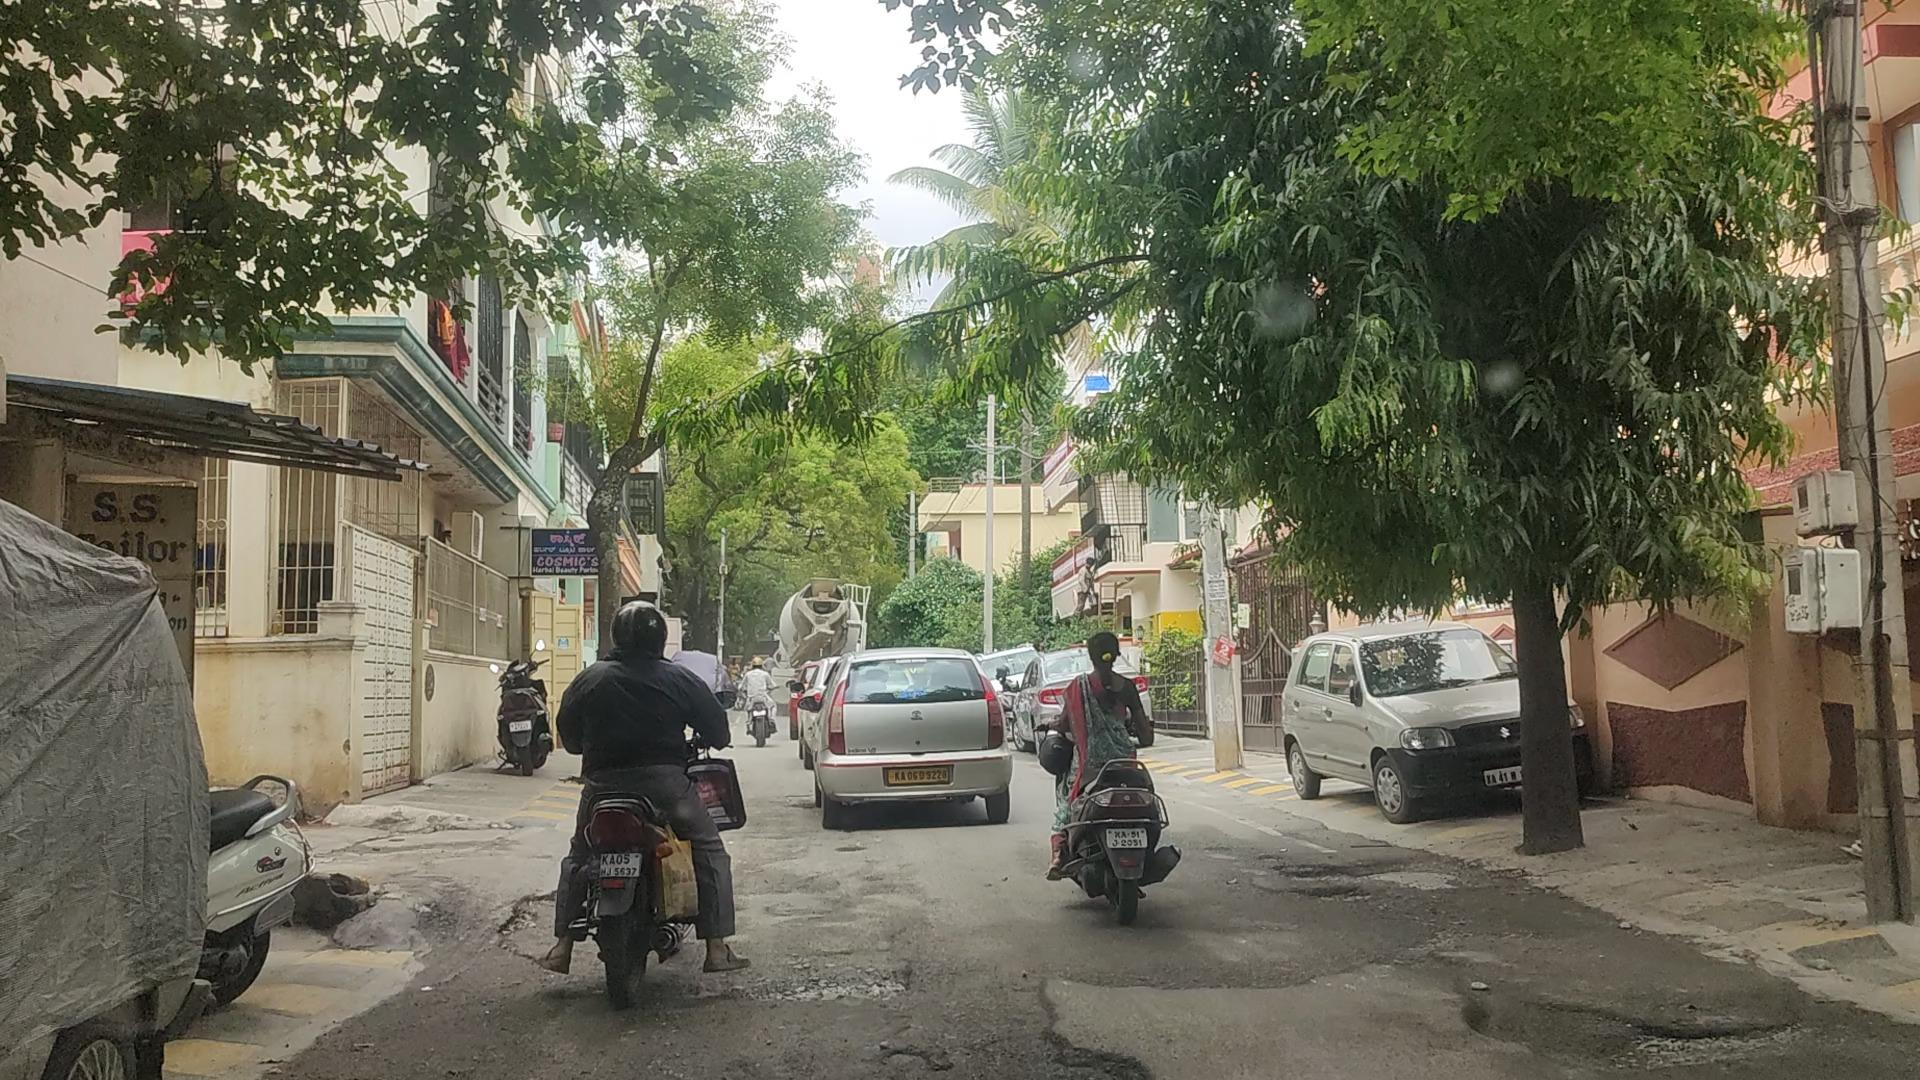LMV: (588, 596, 703, 998), (1034, 624, 1171, 923), (810, 667, 1002, 824)
RoadDamages: (1027, 949, 1518, 1080), (1556, 948, 1762, 1080), (1246, 844, 1389, 910), (757, 967, 919, 1007), (870, 1036, 956, 1080)
